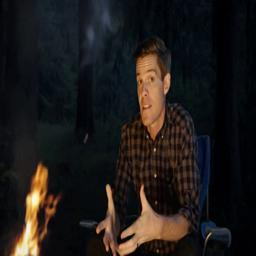fire: (13, 164, 60, 256)
